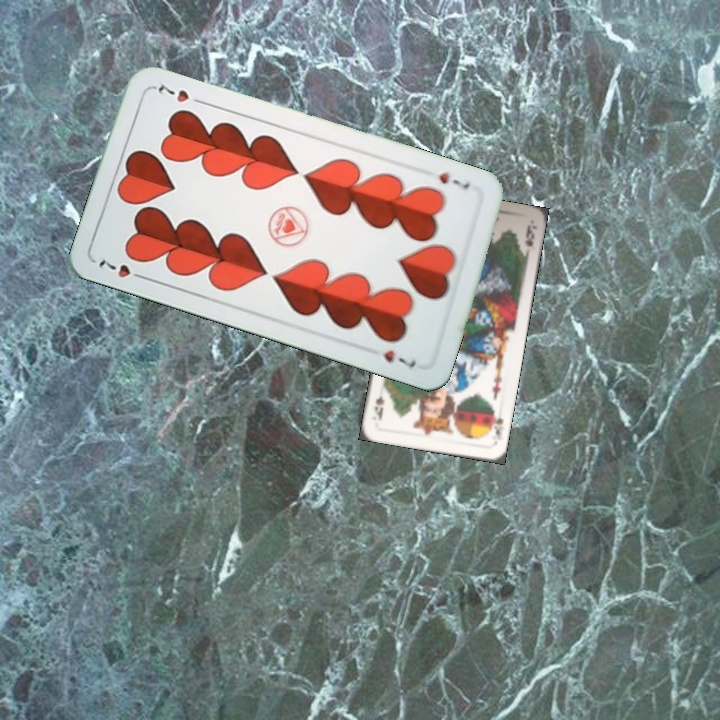H7: (94, 255, 150, 283), (435, 168, 473, 193)
SK: (486, 406, 506, 439)
